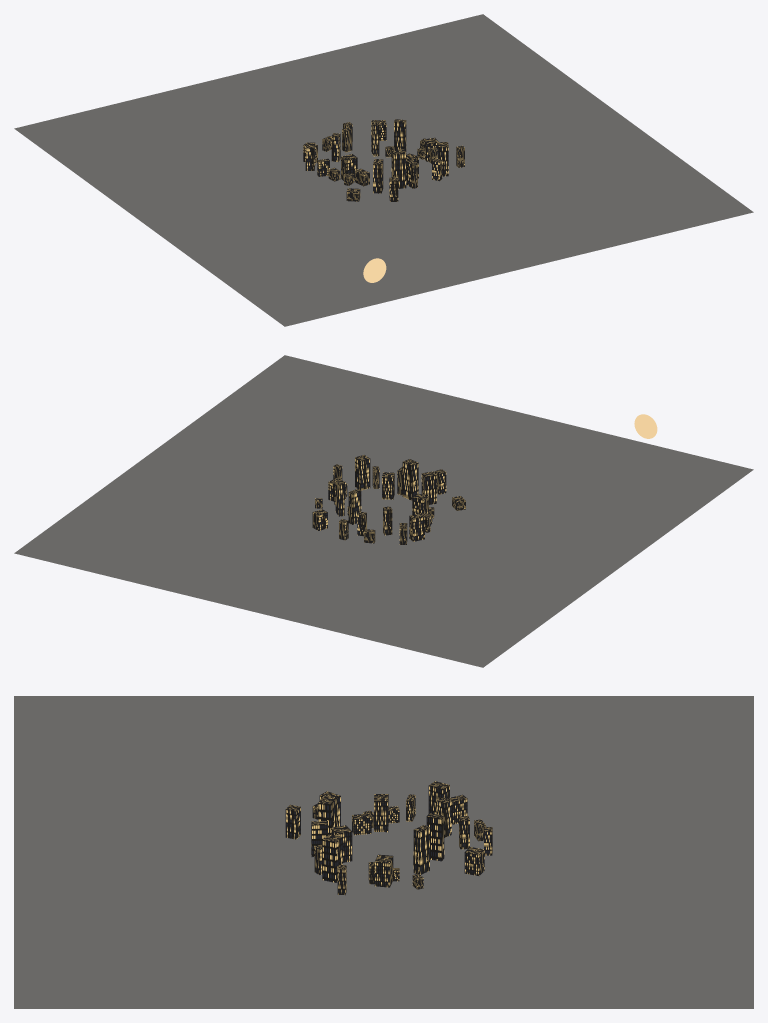
The model's file is skyline.glb.
The picture shows the model from 3 angles, top to bottom: view 1: azimuth 30°, elevation 25°; view 2: azimuth 150°, elevation 25°; view 3: azimuth 270°, elevation 25°; orthographic projection. The views are drawn at different scales.
Parts seen in each view (by area): view 1: Plane, Cube.021; view 2: Plane, Cube.021, Cube.025; view 3: Plane, Cube.025, Cube.003, Cube.006, Cube, Cube.015, Cube.005, Cube.020.
Part boxes in pixels (x1,y1,x2,y2): Plane: [14, 14, 753, 326]; Cube.021: [391, 149, 406, 188]; Plane: [14, 355, 753, 667]; Cube.021: [402, 459, 418, 500]; Cube.025: [355, 455, 370, 490]; Plane: [14, 696, 753, 1008]; Cube.025: [322, 834, 342, 882]; Cube.003: [413, 825, 429, 874]; Cube.006: [426, 813, 444, 861]; Cube: [374, 854, 393, 887]; Cube.015: [374, 794, 388, 832]; Cube.005: [464, 847, 484, 875]; Cube.020: [285, 804, 300, 839].
Size of the model in its own units: 900 by 68.6 by 900.
3 materials, 1 textured.
